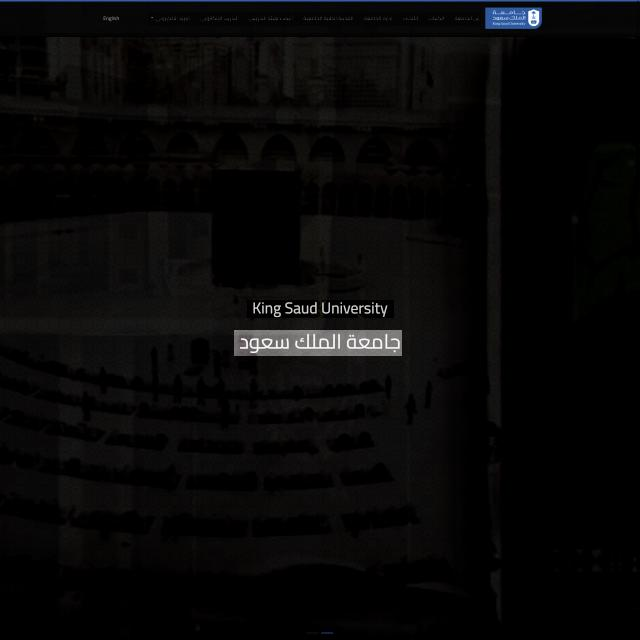bag: (0, 0, 640, 36)
card: (0, 33, 640, 640)
date picker: (485, 6, 543, 30)
decoration: (148, 12, 481, 26)
image: (234, 330, 402, 356), (247, 300, 394, 318)
